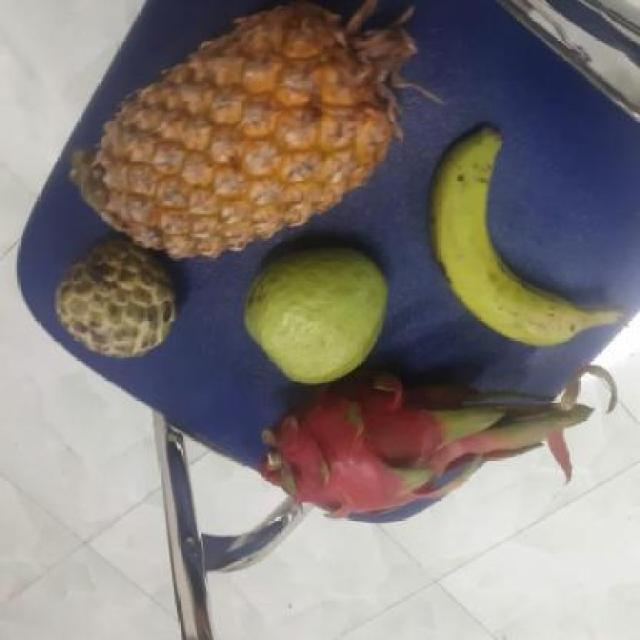banana: (431, 129, 602, 346)
dragon fruit: (262, 371, 503, 528)
guava: (239, 245, 393, 386)
pineapple: (90, 11, 413, 251)
sugar apple: (57, 238, 186, 357)
